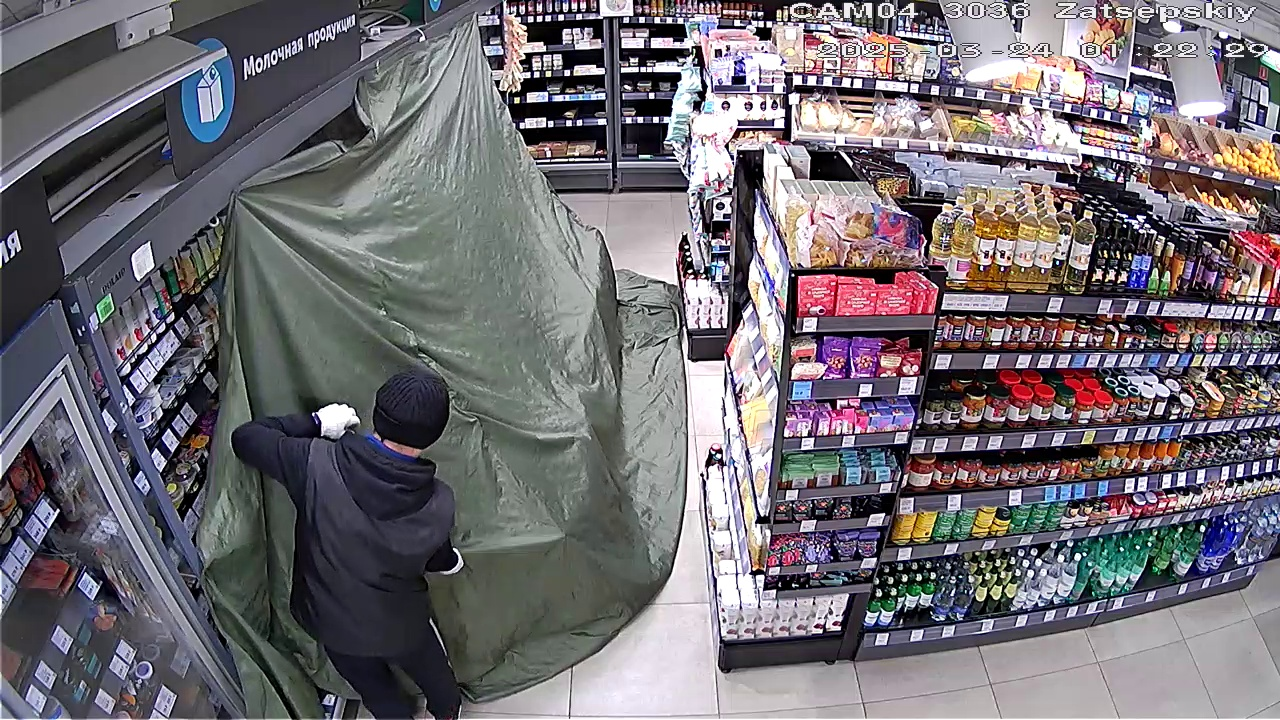Human: (222, 353, 469, 709)
dome: (194, 36, 690, 719)
